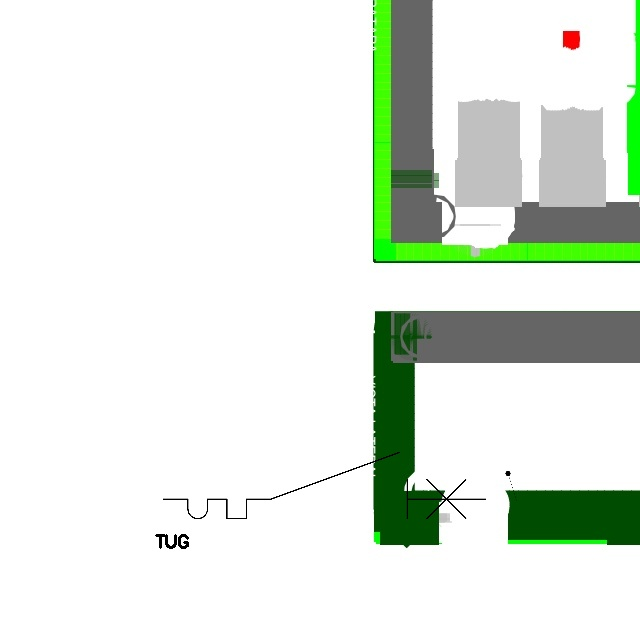interruptor_termomagnetico: (155, 444, 493, 527)
